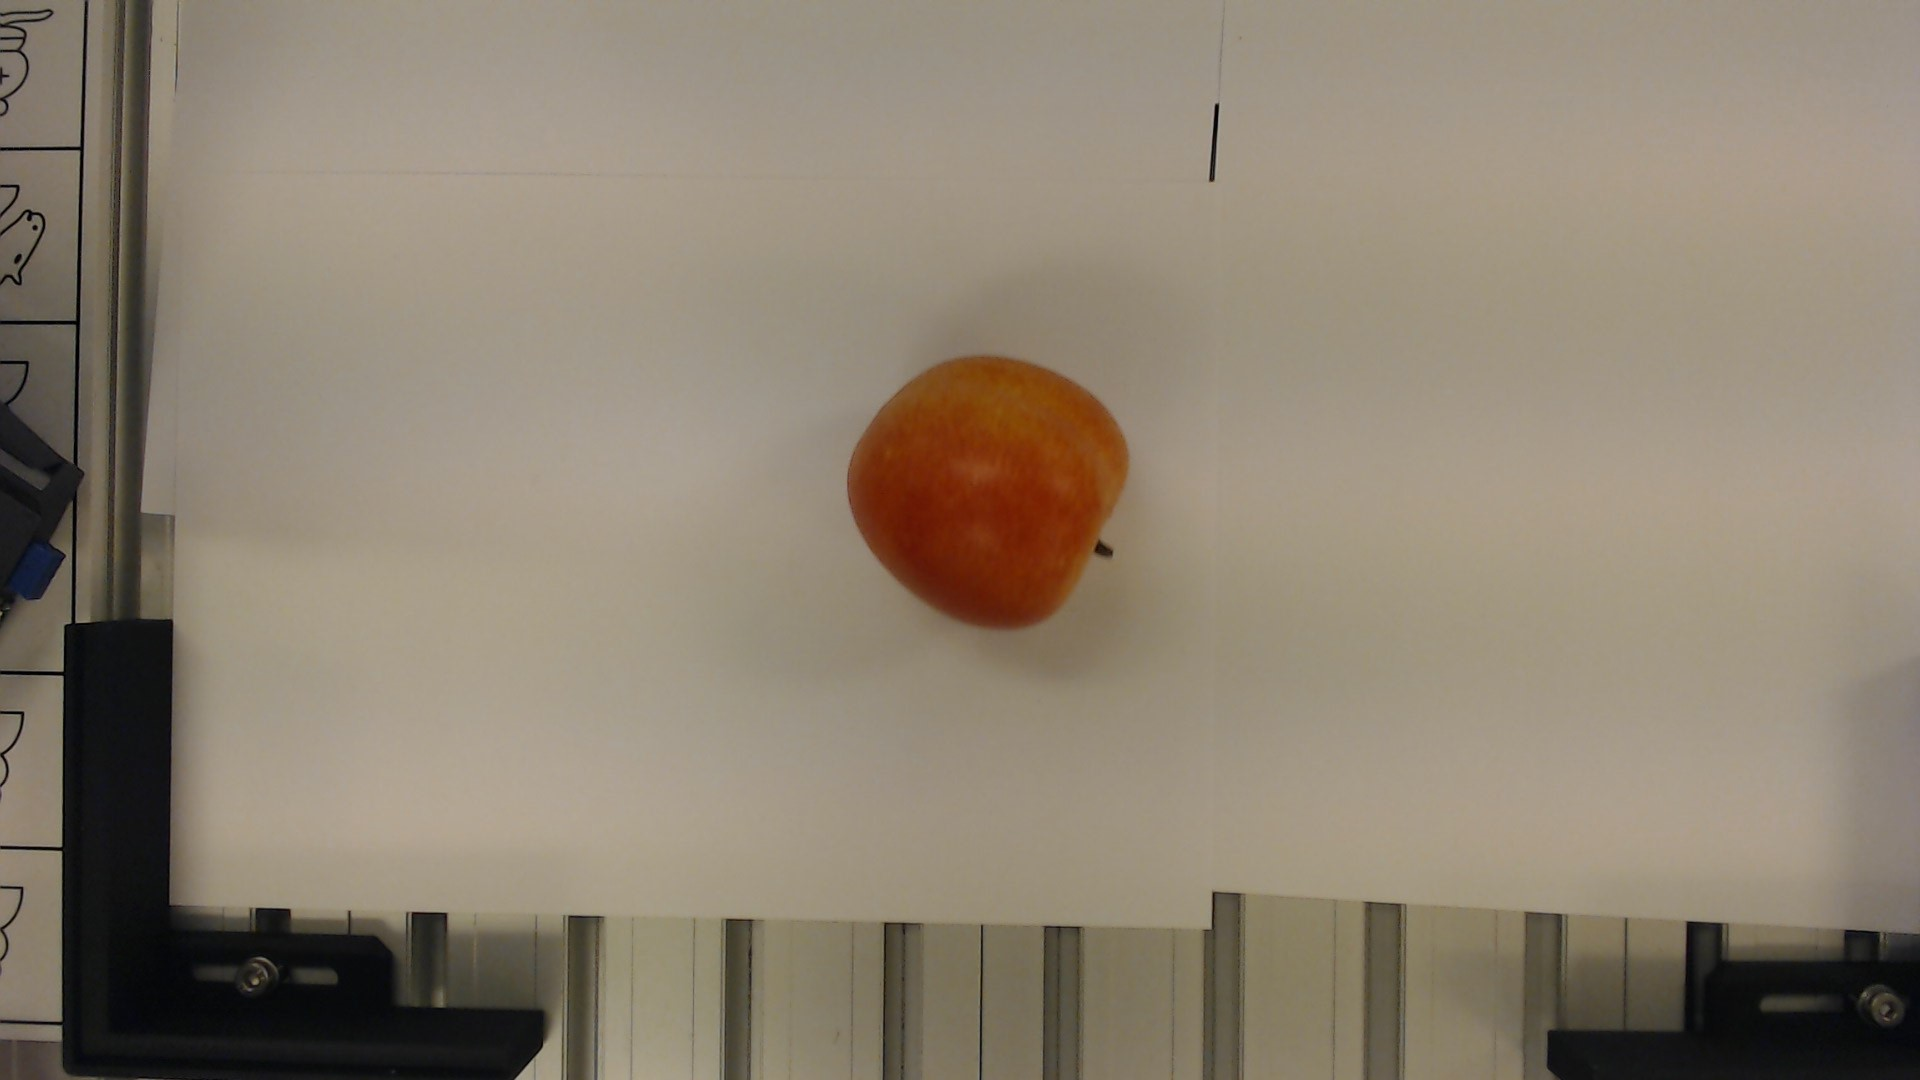Peach: (831, 343, 1138, 641)
